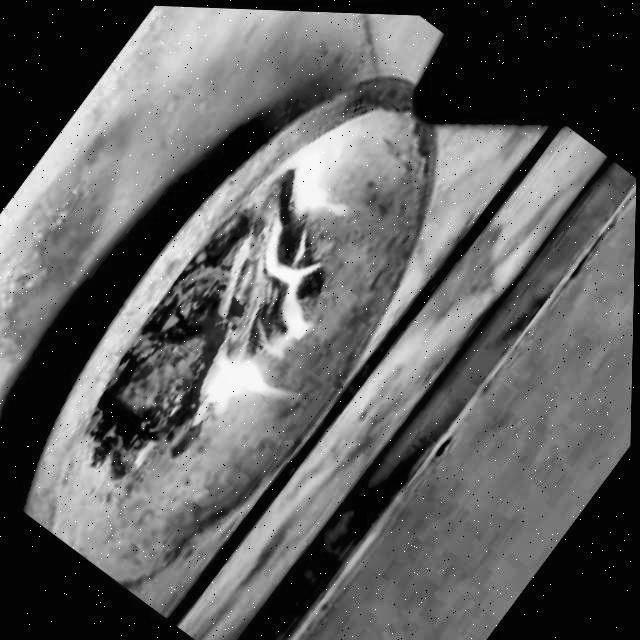Fire: (176, 325, 306, 461), (225, 227, 349, 353), (271, 130, 378, 239)
